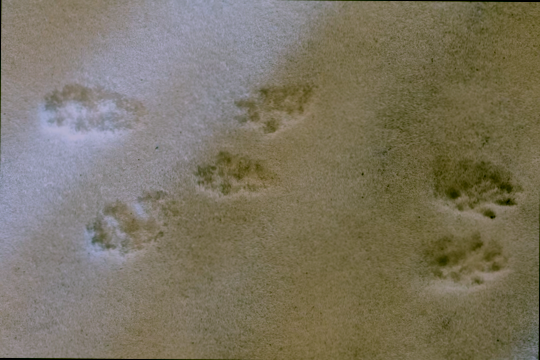ecureuil: (387, 69, 507, 147), (358, 180, 459, 263), (25, 222, 132, 293), (213, 73, 316, 142), (7, 156, 104, 220), (258, 145, 352, 202)
